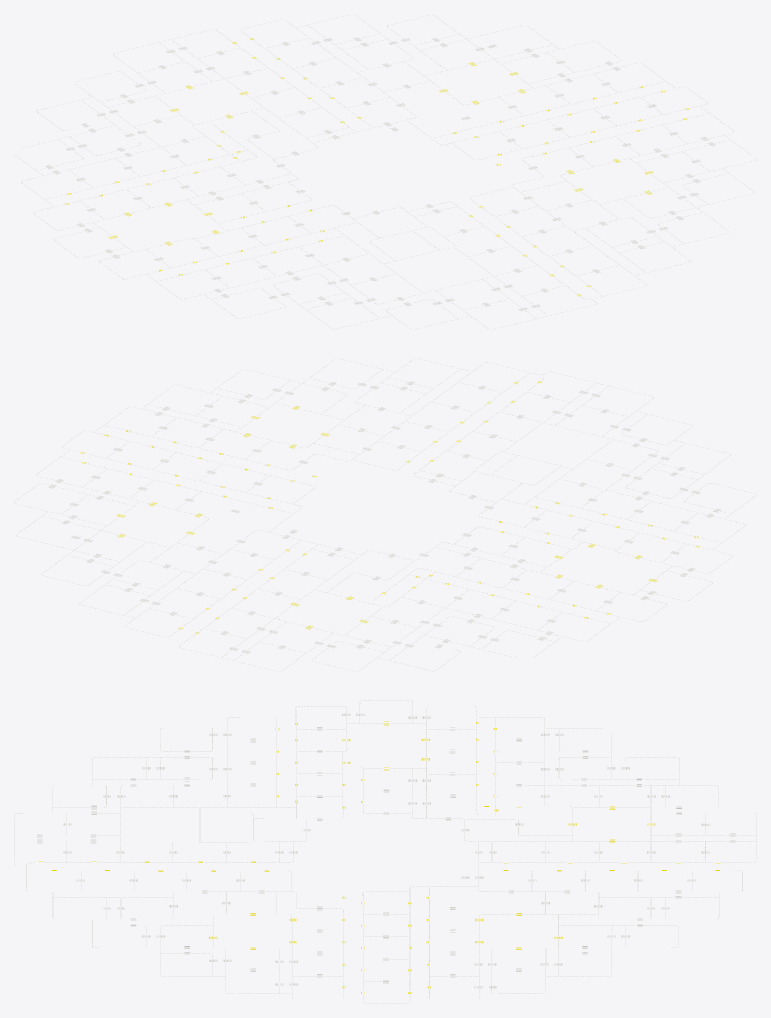
Rendered from Markings.fbx.
3 views of the same model, one above another, from view 1: azimuth 30°, elevation 25°; view 2: azimuth 150°, elevation 25°; view 3: azimuth 270°, elevation 25° (orthographic).
Bounding box in the file's own units: 231299 × 3.73 × 239622.
